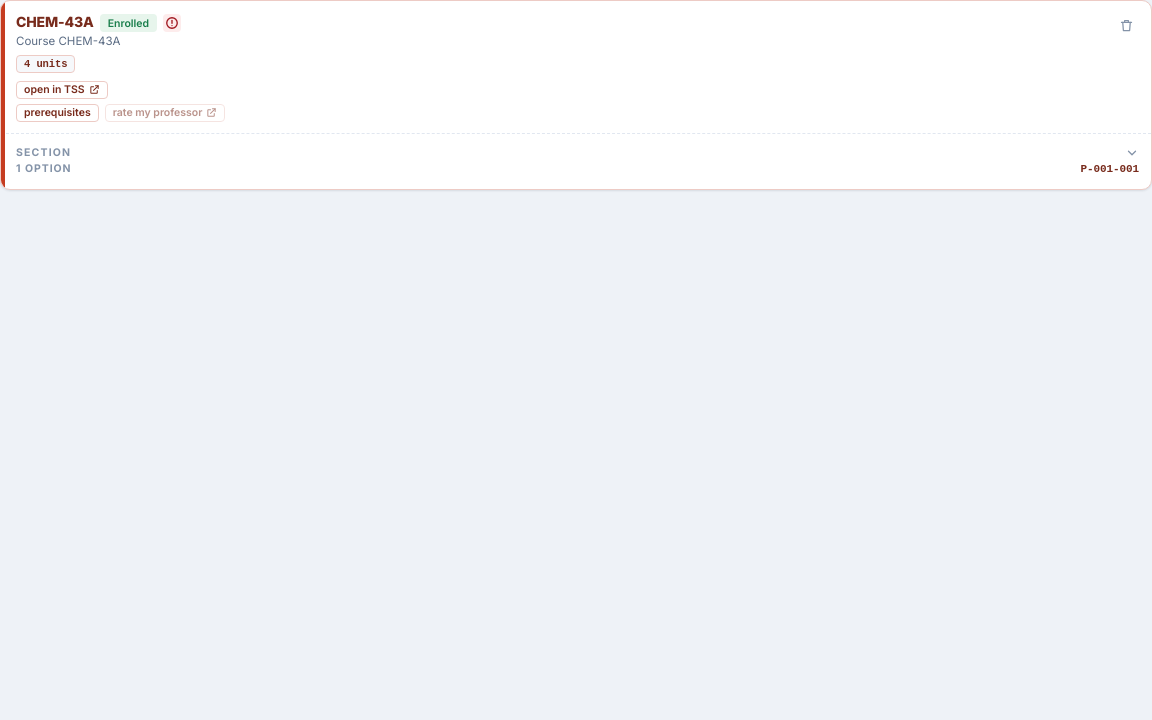
Test: CourseCard booked state › booked, but not the section on the grid › opens a popover naming both packages, and offers only to show the list
The width and height of the screenshot is (1152, 720).
Step 1. Click the button with class "tag--alert" → (172, 23), box [163, 14, 181, 32]
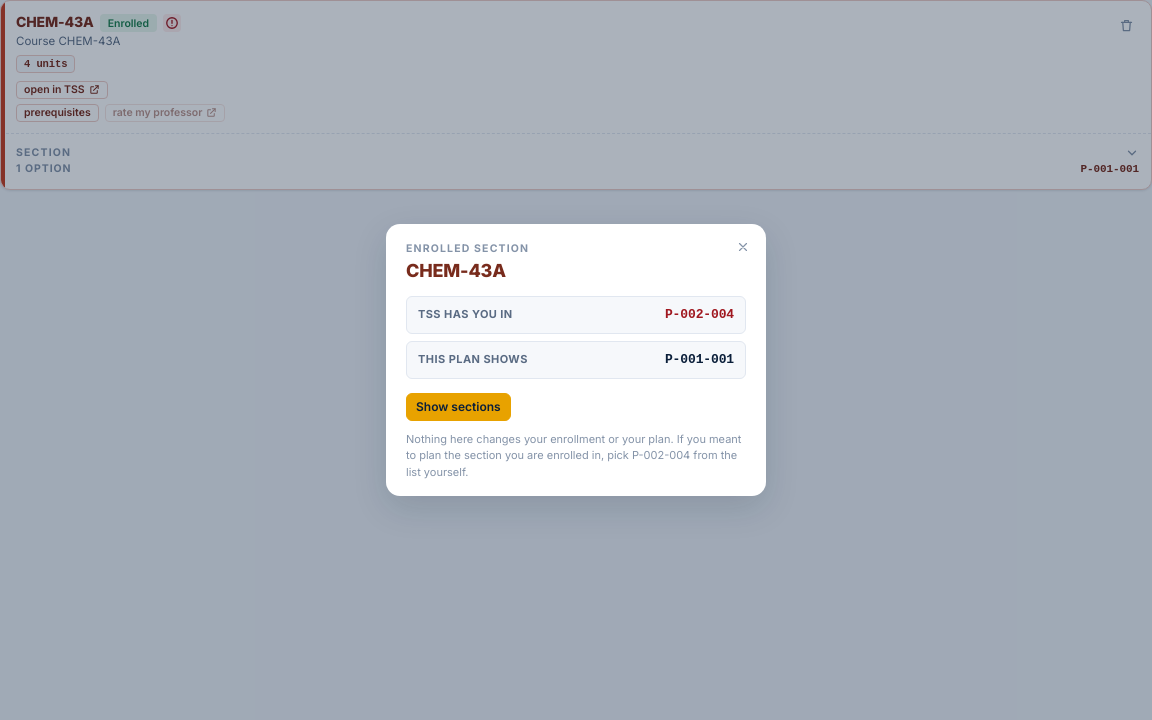
Now the dialog with class "bookedpop" shows "P-002-004", box [665, 306, 734, 322]
Now the dialog with class "bookedpop" shows "P-001-001", box [665, 352, 734, 367]
